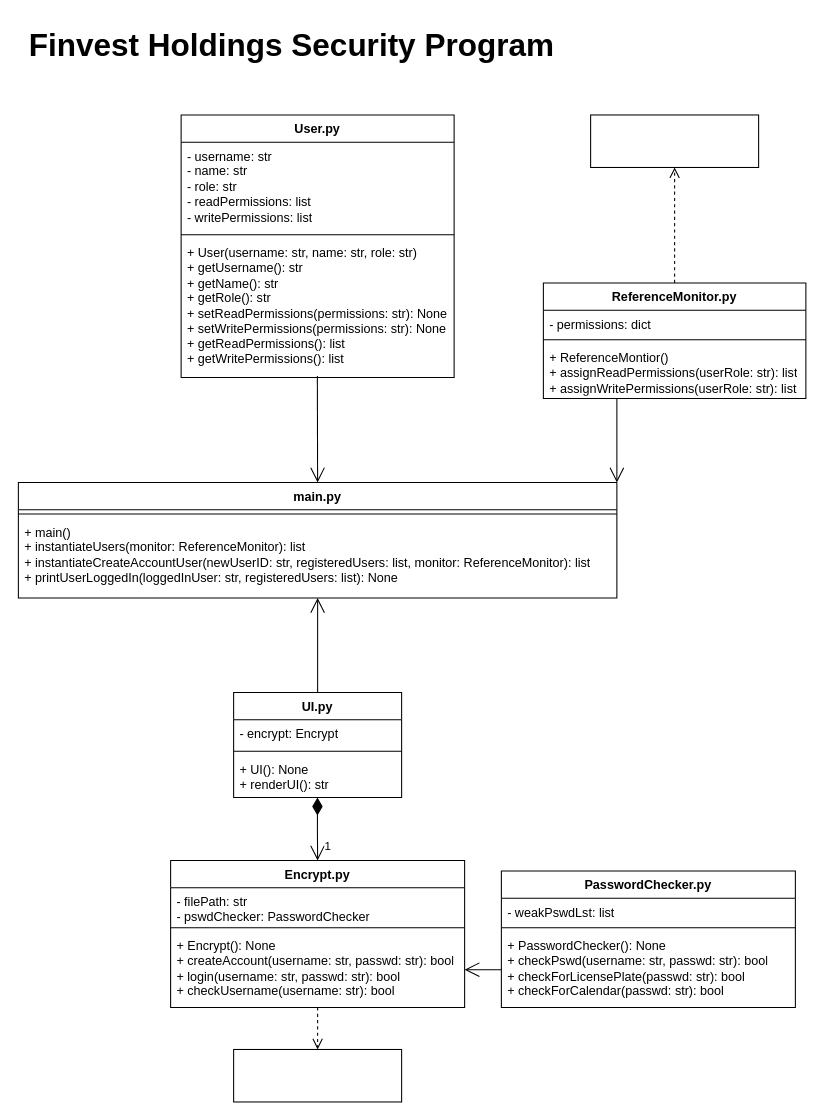
Image size: 824x1120. Some labels were removed from this diagram. Each missing label, with the centre of its shape:
AccessControlMatrix.csv: point (674, 140)
passwd.txt: point (317, 1075)
